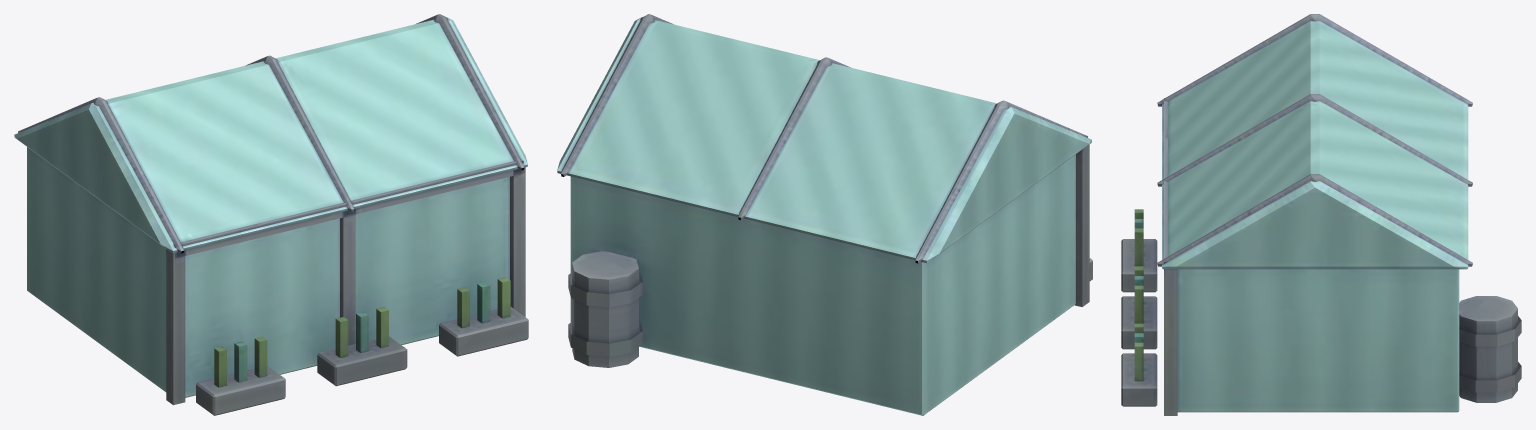
The model's file is greenhouse-3-age20.glb.
3 views of the same model, side by side, from view 1: azimuth 30°, elevation 25°; view 2: azimuth 150°, elevation 25°; view 3: azimuth 270°, elevation 25° (orthographic). The views are drawn at different scales.
Parts seen in each view (by area): view 1: greenhouse-3-age20; view 2: greenhouse-3-age20; view 3: greenhouse-3-age20.
Part boxes in pixels (bbox=[...]): greenhouse-3-age20: bbox=[14, 14, 528, 415]; greenhouse-3-age20: bbox=[557, 14, 1092, 415]; greenhouse-3-age20: bbox=[1121, 14, 1521, 415].
Bounding box in the file's own units: 0.9 × 0.5835 × 0.888.
1 material, 1 textured.
